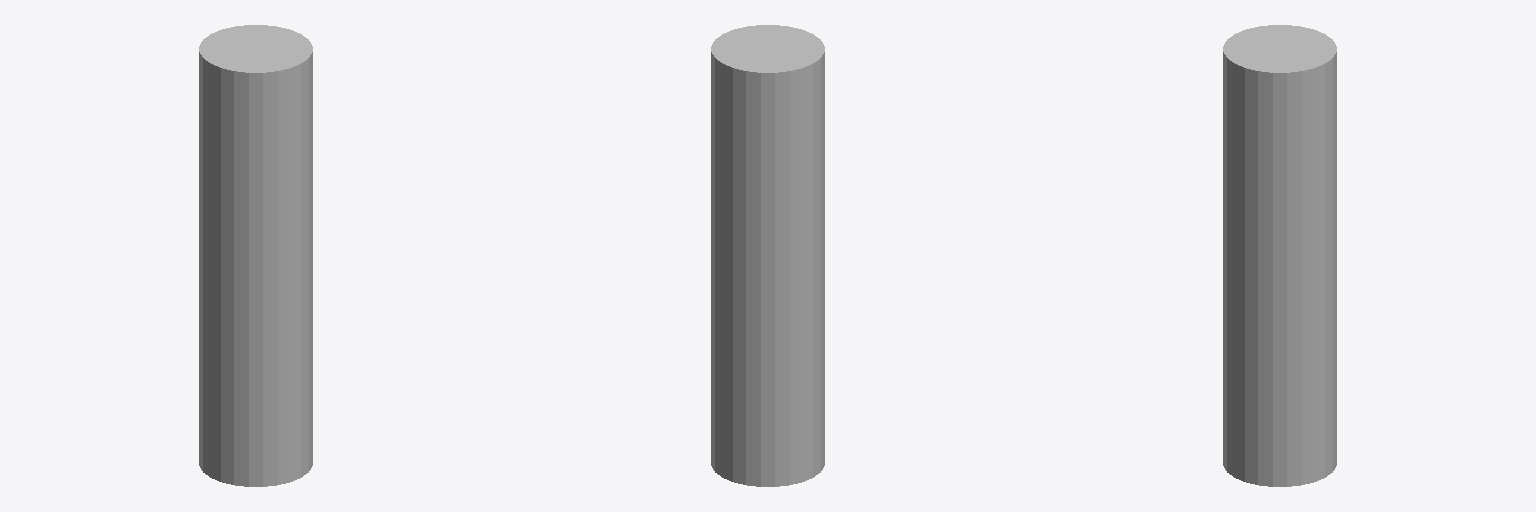
Rendered from GF-02Collider.obj.
3 renders of one model, left to right at view 1: azimuth 30°, elevation 25°; view 2: azimuth 150°, elevation 25°; view 3: azimuth 270°, elevation 25°, orthographic.
Visible parts, largest first — view 1: GF-02Collider; view 2: GF-02Collider; view 3: GF-02Collider.
Part boxes in pixels (bbox=[...]): GF-02Collider: bbox=[199, 25, 312, 486]; GF-02Collider: bbox=[711, 25, 824, 486]; GF-02Collider: bbox=[1223, 25, 1336, 486].
Size of the model in its own units: 0.6197 by 2.5 by 0.6197.